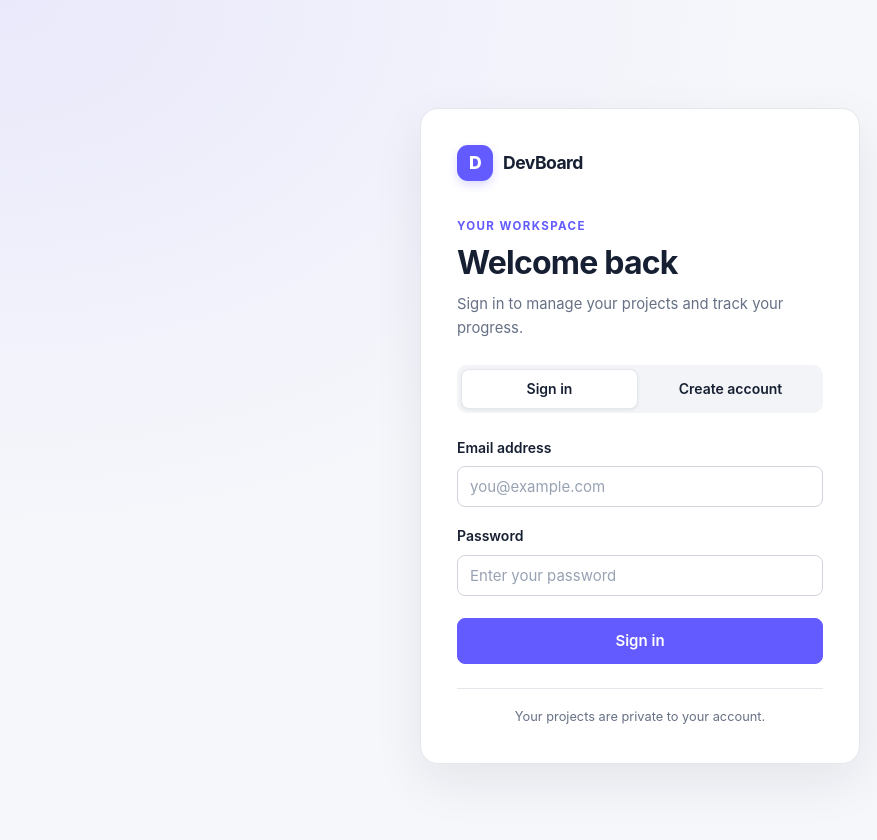
Test: AuthPage › shows an error when login fails
The image size is (877, 840).
Step 1. Type "test@example.com" into the field labelled "Email address" → (640, 487), box [457, 466, 823, 507]
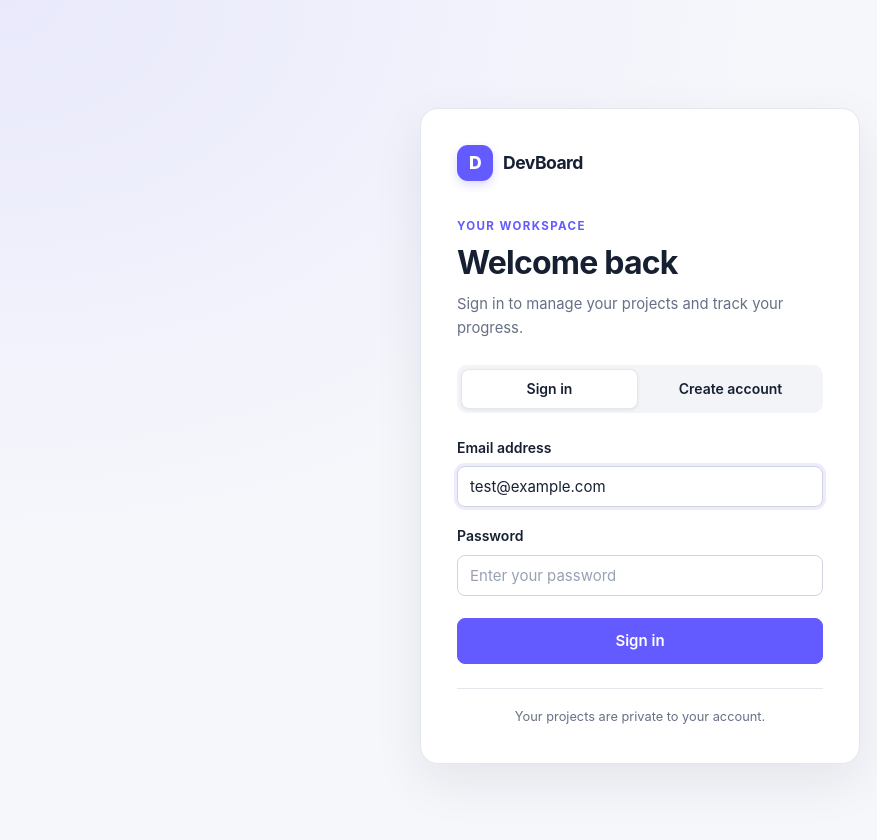
Step 2. Type "wrong-password" into the password field labelled "Password" → (640, 575), box [457, 554, 823, 596]
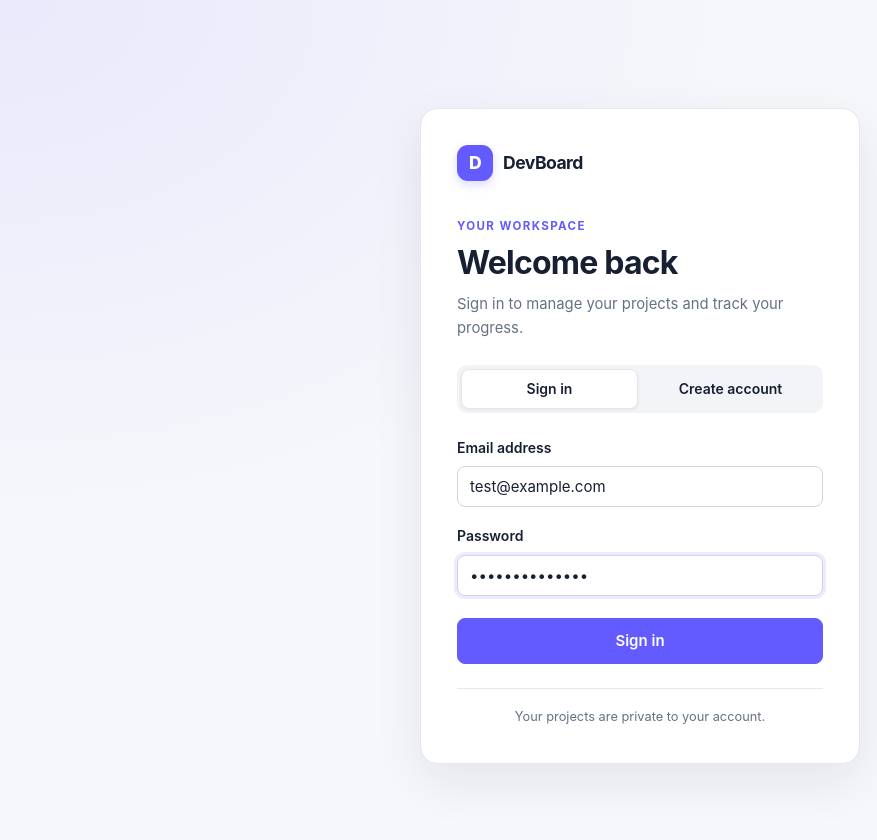
Step 3. Click the button "Sign in" below "Password" → click(640, 640), box [457, 618, 823, 664]
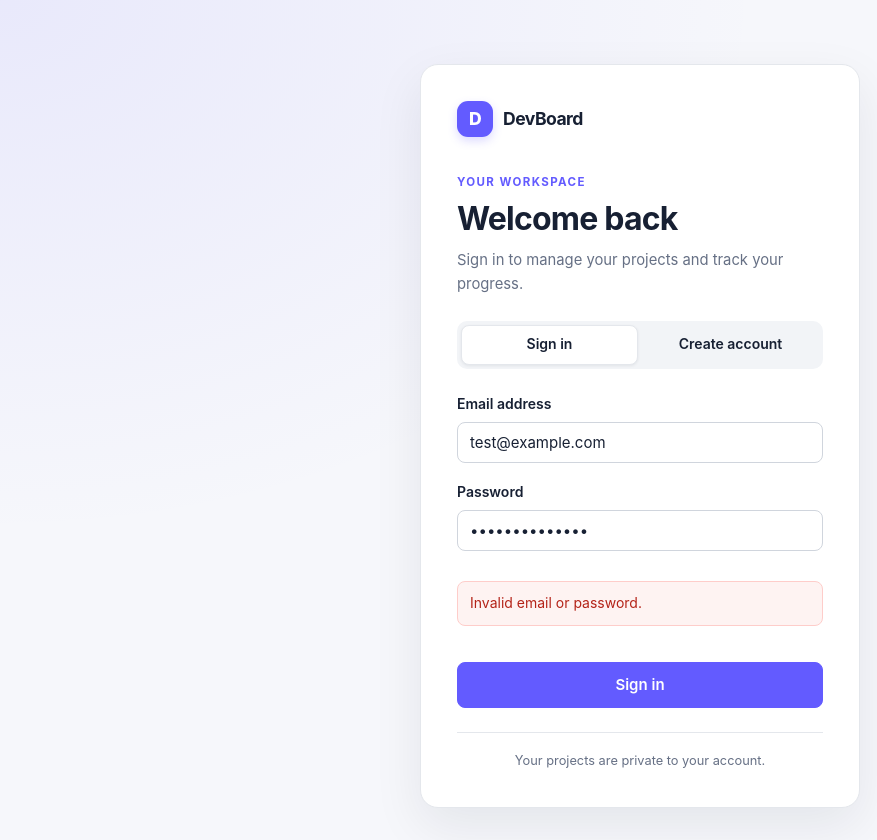
Check: the message reads "Invalid email or password.", box [470, 594, 642, 611]
